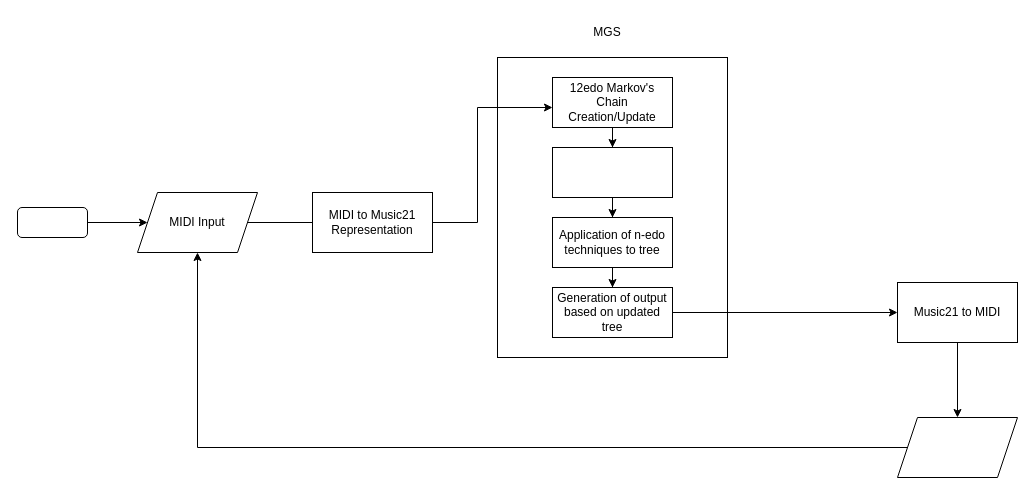
The diagram is 1035 pixels wide and 495 high, and some of its shapes have lost their labels. Here are the shapes that lost their labels. From the top down, the centre of each, then its label:
At point (612, 172): "Naive conversion to n-edo tree".
At point (52, 222): "Start".
At point (957, 447): "MIDI Output".
